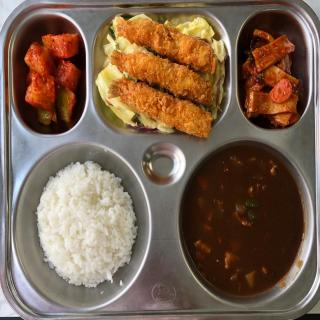Nasi: (37, 162, 139, 288)
